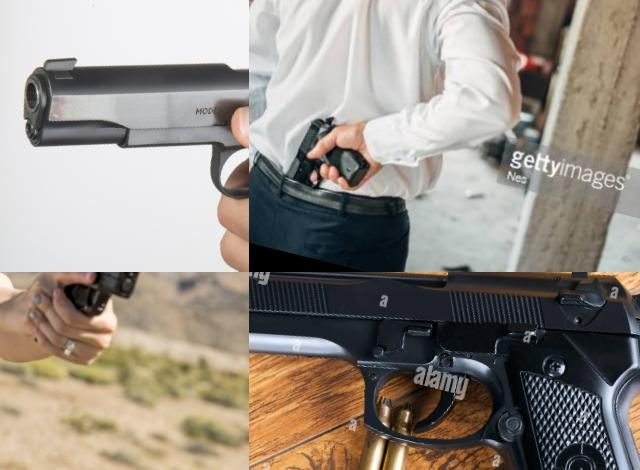handgun: (249, 272, 640, 470), (4, 0, 249, 250), (277, 103, 385, 208), (37, 272, 149, 338)
